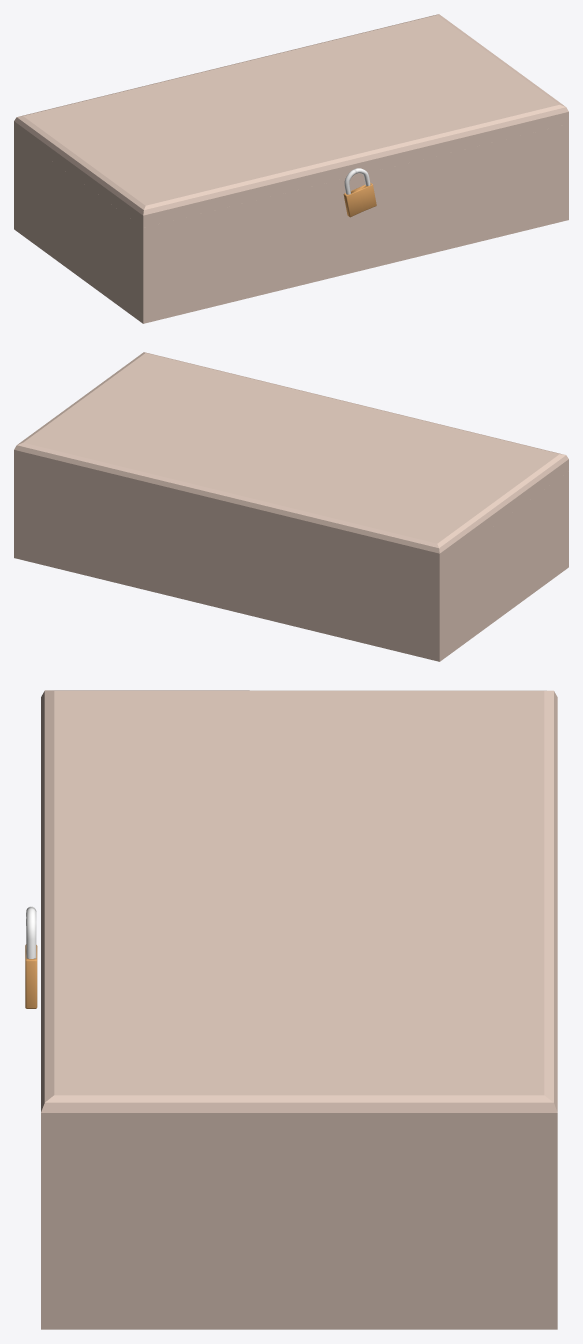
Rendered from TestingBoxFBXfbx.fbx.
3 renders of one model, top to bottom at view 1: azimuth 30°, elevation 25°; view 2: azimuth 150°, elevation 25°; view 3: azimuth 270°, elevation 25°, orthographic. The views are drawn at different scales.
Visible parts, largest first — view 1: BoxTop, BoxBottom, LockBase; view 2: BoxTop, BoxBottom; view 3: BoxTop, BoxBottom.
Boxes of the visible parts, <box> form: BoxTop: <box>14,14,568,227</box>; BoxBottom: <box>14,124,568,323</box>; LockBase: <box>343,182,376,217</box>; BoxTop: <box>14,352,568,565</box>; BoxBottom: <box>14,462,568,661</box>; BoxTop: <box>41,690,557,1137</box>; BoxBottom: <box>41,1137,557,1329</box>.
Bounding box in the file's own units: 380 × 97.63 × 206.
